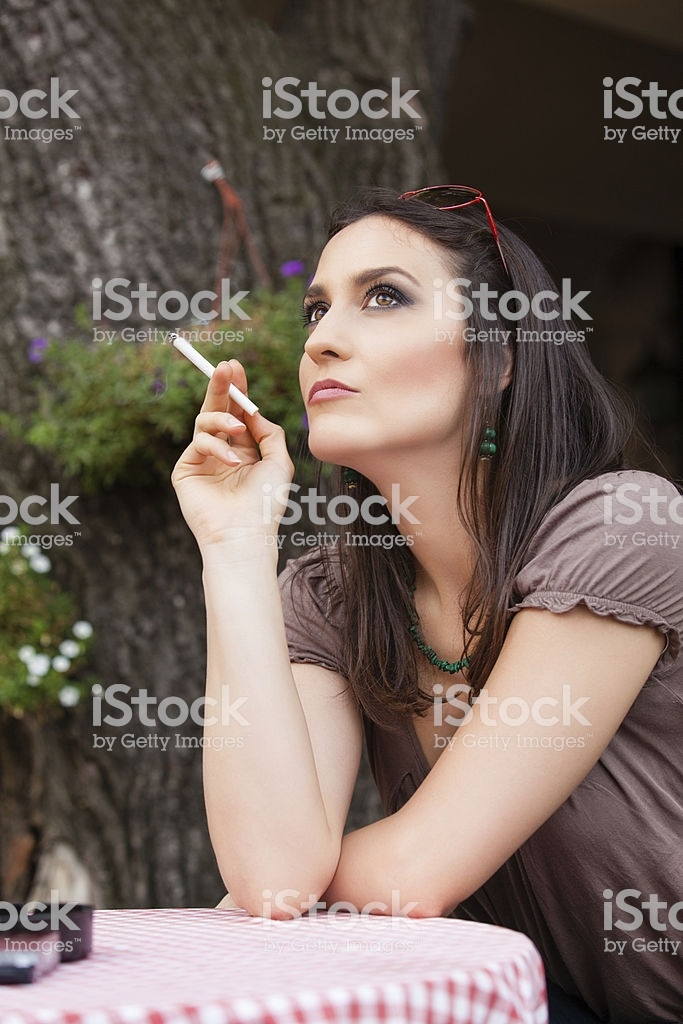sigaretta: (162, 325, 266, 413)
